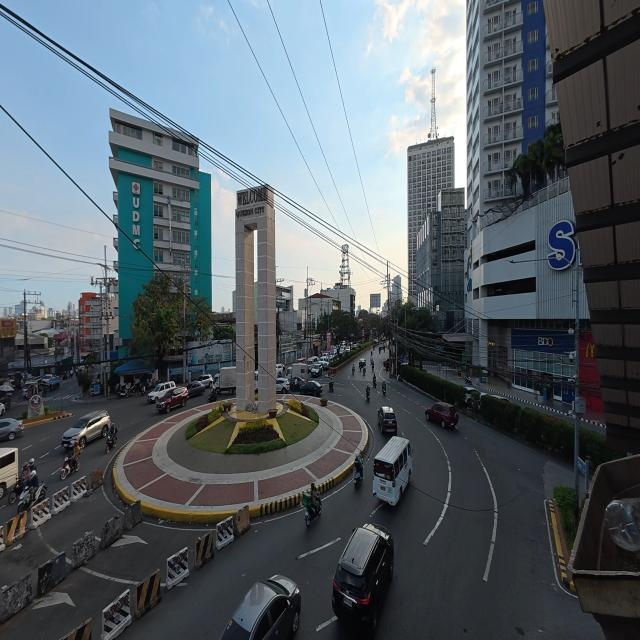car: (332, 524, 393, 635), (221, 575, 301, 639), (62, 410, 111, 449), (156, 387, 189, 412), (425, 403, 458, 427), (147, 381, 175, 402), (378, 407, 397, 435), (0, 418, 23, 440), (300, 381, 322, 397), (188, 381, 206, 398), (23, 380, 41, 397), (44, 376, 61, 390), (465, 387, 479, 403), (289, 376, 305, 390), (198, 374, 213, 387), (276, 378, 289, 393), (490, 394, 510, 403), (311, 362, 322, 377), (0, 395, 11, 409), (276, 363, 284, 377), (319, 358, 329, 369), (383, 358, 390, 370), (359, 358, 366, 369), (0, 403, 5, 415), (345, 346, 351, 353)
motorcycle: (18, 483, 47, 513), (305, 497, 321, 526), (60, 456, 79, 480), (9, 480, 22, 504), (106, 428, 118, 453), (354, 465, 362, 488), (117, 384, 129, 398), (208, 387, 217, 402), (465, 376, 472, 384), (329, 381, 334, 392), (382, 384, 386, 396), (366, 390, 370, 401), (362, 367, 366, 376), (373, 379, 376, 388), (371, 363, 374, 371), (352, 365, 354, 375)
trucks: (218, 367, 236, 394), (286, 363, 309, 380)
vans: (373, 436, 412, 505), (0, 448, 18, 498), (307, 356, 319, 367)
